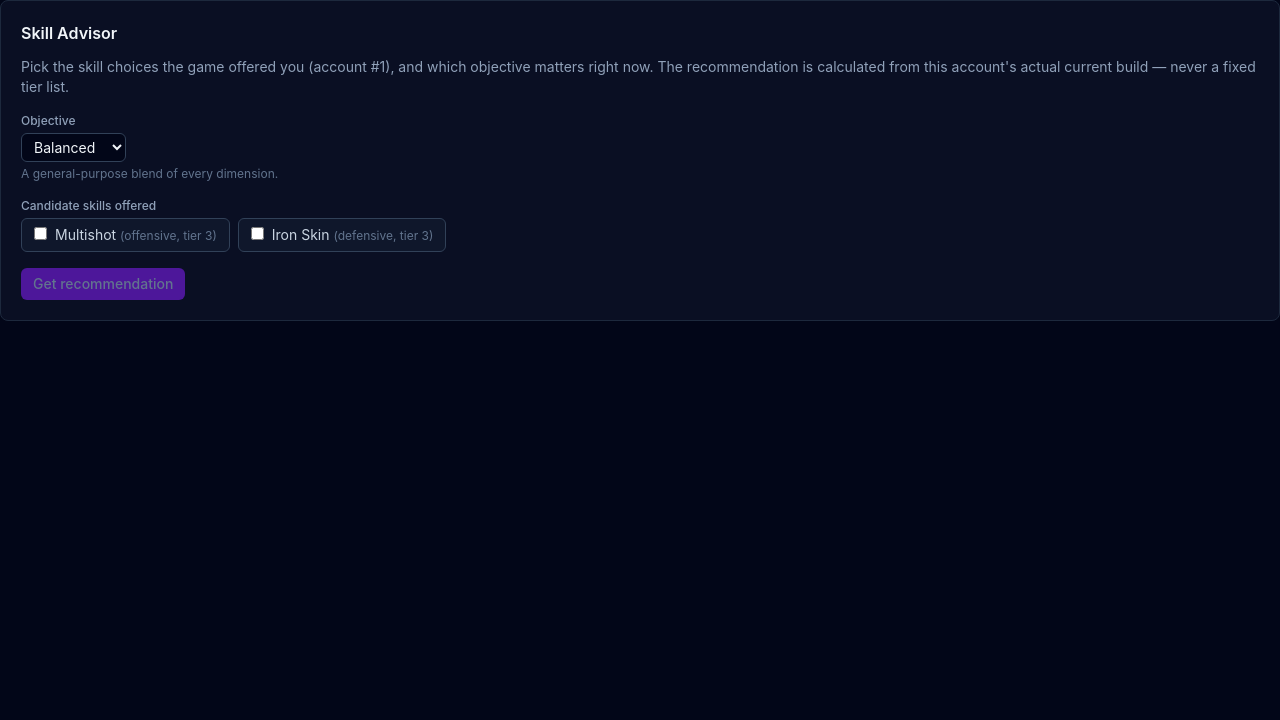
Test: BuildOptimizerPage › loads candidate skills and requests a recommendation for the selected account
The width and height of the screenshot is (1280, 720).
Check: the text "Multishot" is shown, box [55,226,116,243]
Click the checkbox labelled "Multishot (offensive, tier 3)" at [40, 234], box [34,227,47,240]
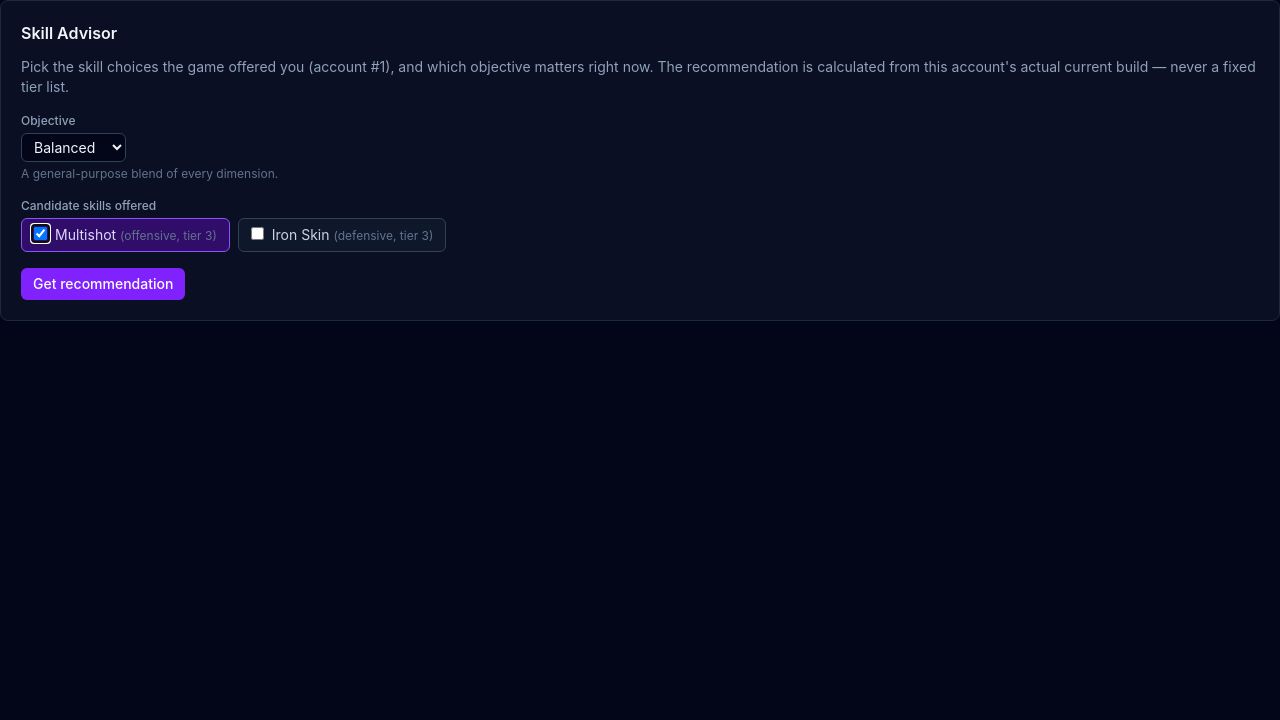
Click the button "Get recommendation" at [103, 284], box [21,268,185,300]
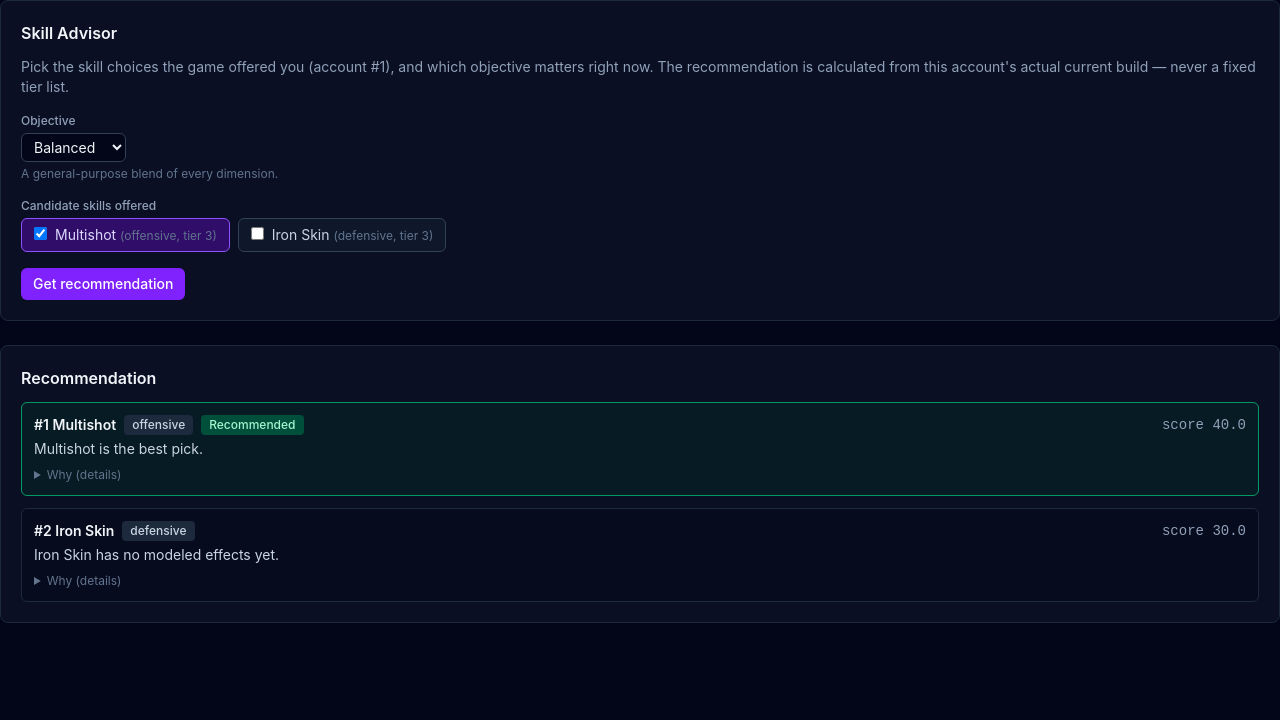
Check: the text "Multishot is the best pick." is shown, box [34,440,203,457]
Check: the text "Recommended" is shown, box [201,415,304,435]
